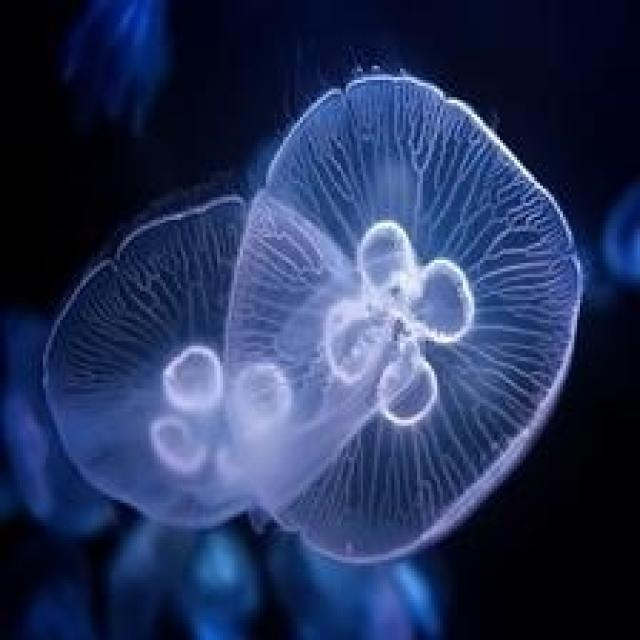Moon-jellyfish: (217, 62, 582, 566), (60, 163, 338, 557)
